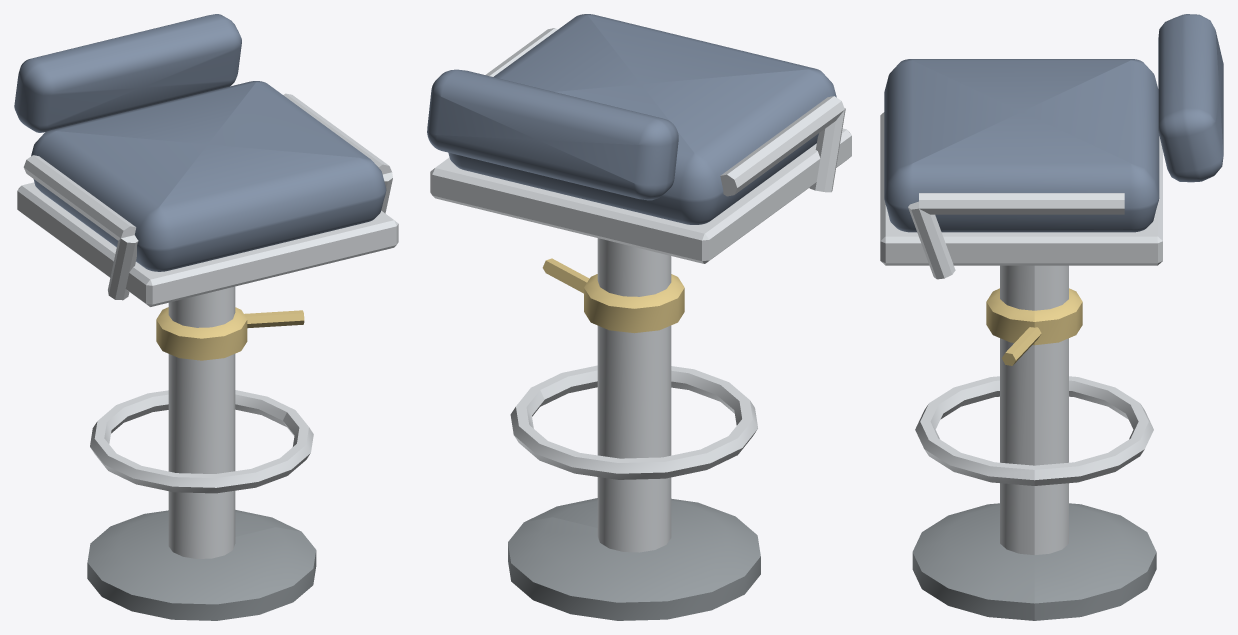
Rendered from submarine-interior-and-control-room-watchkeepers-stool-f192642d__36481.glb.
3 views of the same model, side by side, from view 1: azimuth 30°, elevation 25°; view 2: azimuth 150°, elevation 25°; view 3: azimuth 270°, elevation 25° (orthographic). The views are drawn at different scales.
Parts seen in each view (by area): view 1: seat/fabric, watchkeepers-stool, seat/metal; view 2: watchkeepers-stool, seat/fabric, seat/metal; view 3: seat/fabric, watchkeepers-stool, seat/metal.
Part boxes in pixels (x1,y1,x2,y2): seat/fabric: (14, 14, 386, 271); watchkeepers-stool: (87, 286, 316, 620); seat/metal: (17, 93, 398, 306); watchkeepers-stool: (508, 238, 760, 620); seat/fabric: (427, 14, 836, 224); seat/metal: (430, 28, 851, 263); seat/fabric: (884, 14, 1223, 232); watchkeepers-stool: (912, 265, 1156, 620); seat/metal: (880, 112, 1162, 279).
Bounding box in the file's own units: 0.516 × 0.8715 × 0.5343.
